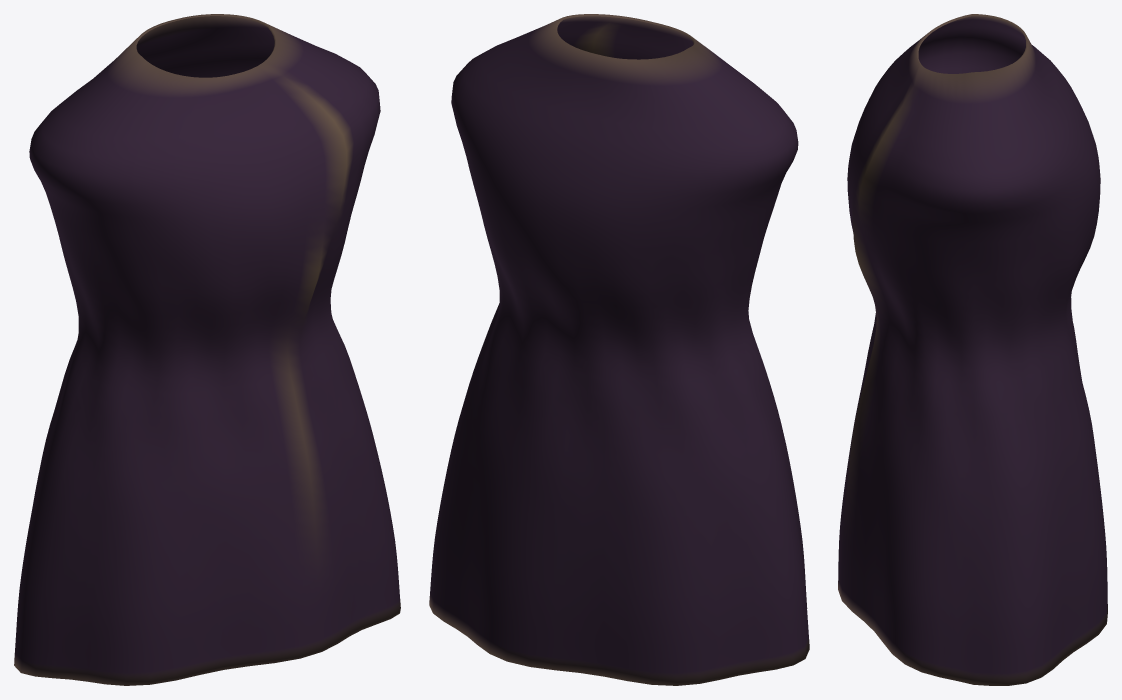
The model's file is wuling-attire-24040db55c94.glb.
3 views of the same model, side by side, from view 1: azimuth 30°, elevation 25°; view 2: azimuth 150°, elevation 25°; view 3: azimuth 270°, elevation 25° (orthographic). The views are drawn at different scales.
Visible parts, largest first — view 1: SM_Hero_wuling_TailoredCoat_A; view 2: SM_Hero_wuling_TailoredCoat_A; view 3: SM_Hero_wuling_TailoredCoat_A.
Part boxes in pixels (x1,y1,x2,y2): SM_Hero_wuling_TailoredCoat_A: [14, 14, 400, 685]; SM_Hero_wuling_TailoredCoat_A: [429, 14, 809, 685]; SM_Hero_wuling_TailoredCoat_A: [838, 14, 1107, 685].
Bounding box in the file's own units: 0.4487 × 0.7181 × 0.312.
